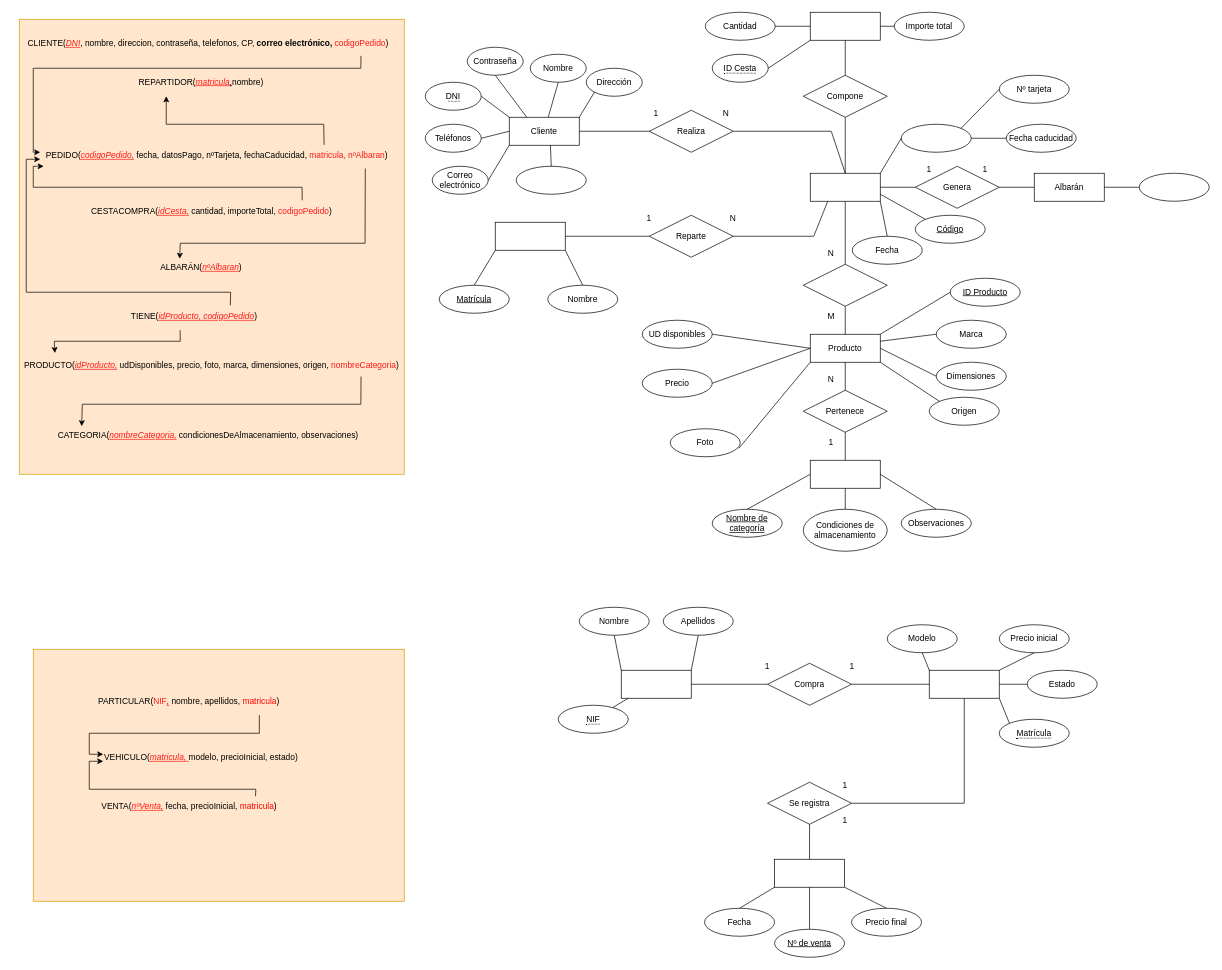
Image size: 1222x970. Some labels were removed from this diagram. Here are the shapes that lost their labels. From the top down, the centre of each, then its label:
the point at 845,26: Cesta_Compra
the point at 936,138: Datos de pago
the point at 551,180: Código postal
the point at 845,187: Pedido
the point at 1174,187: Nº Albarán
the point at 530,236: Repartidor
the point at 845,285: Tiene
the point at 845,474: Categoría
the point at 656,684: Particular
the point at 964,684: Vehículo
the point at 809,873: Venta
